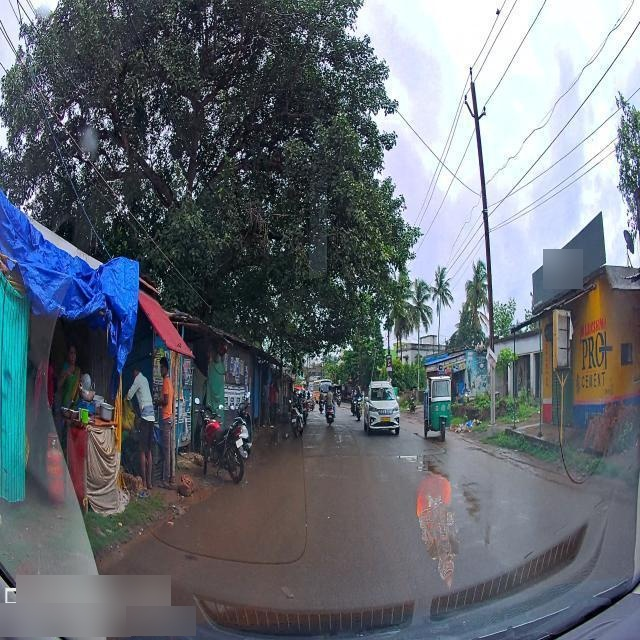pothole: (401, 452, 444, 474), (462, 483, 486, 521)
